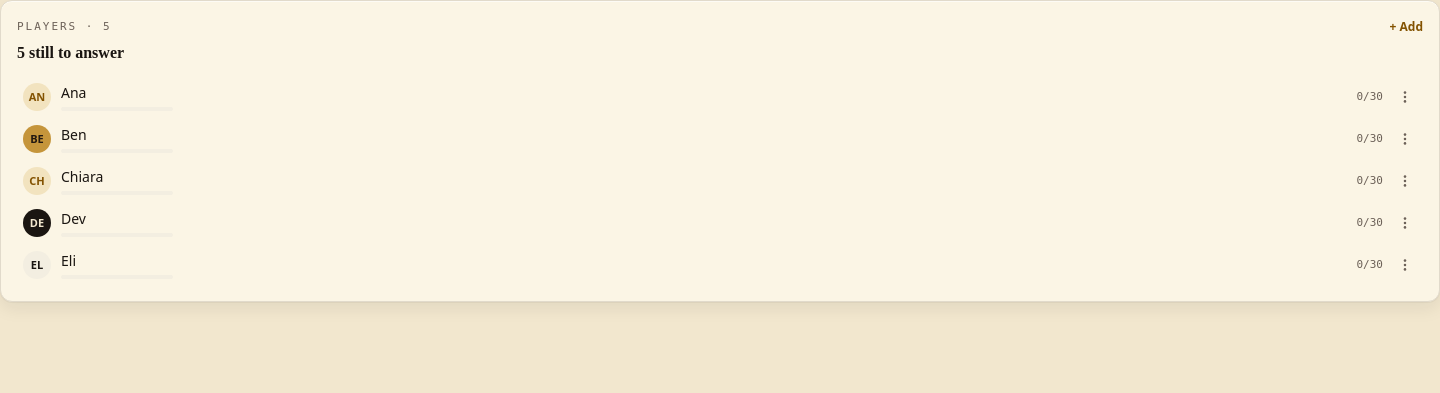
Scenario: Players › keeps the name and says why when adding fails
Click the button with aria-label "Add player" at [1406, 27], box left=1390, top=19, right=1423, bottom=35
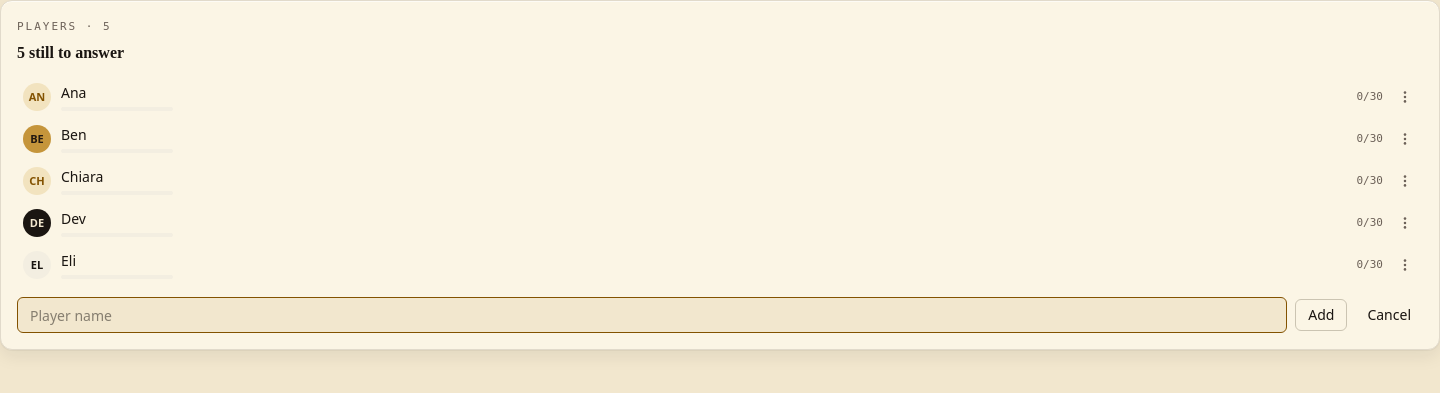
Type "Ana" into the field labelled "Player name" at [652, 315], box left=17, top=297, right=1287, bottom=333
Then press Enter
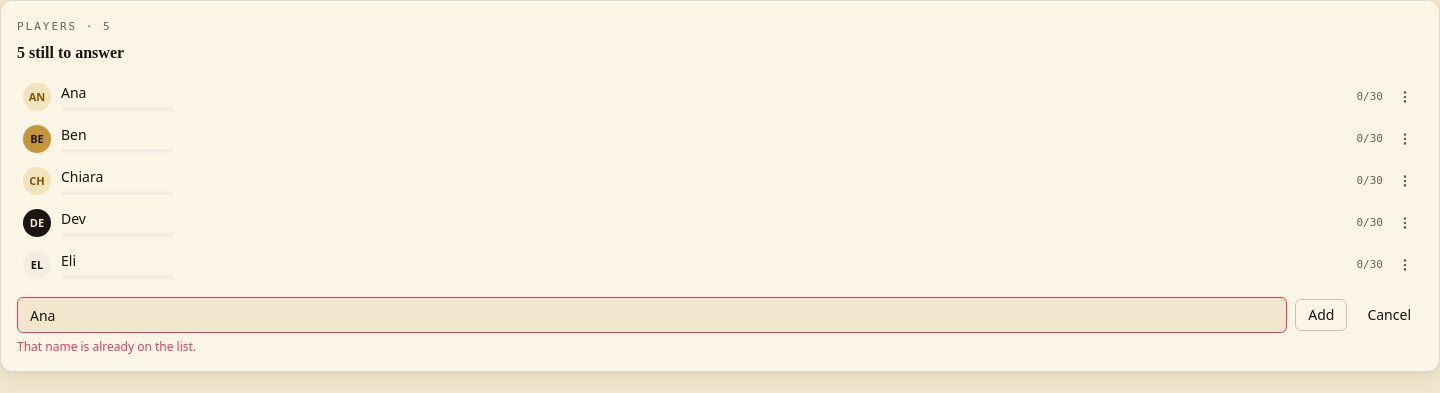
Result: the message reads "That name is already on the list." at left=17, top=338, right=196, bottom=355
